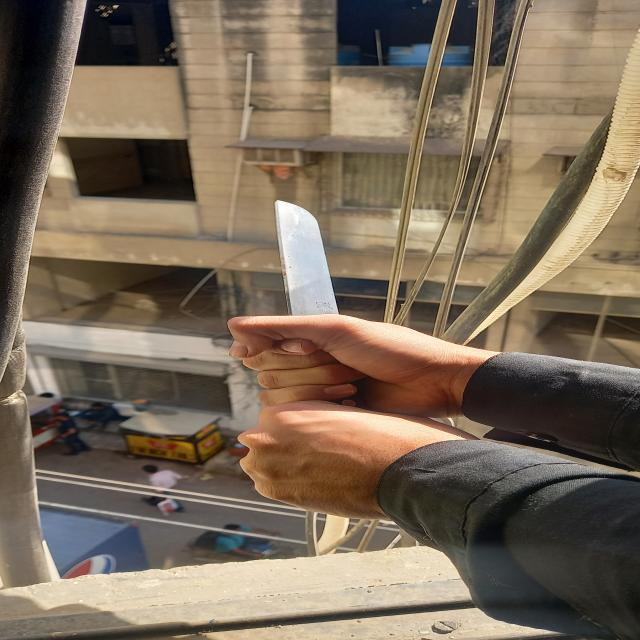Knife: (254, 182, 376, 402)
